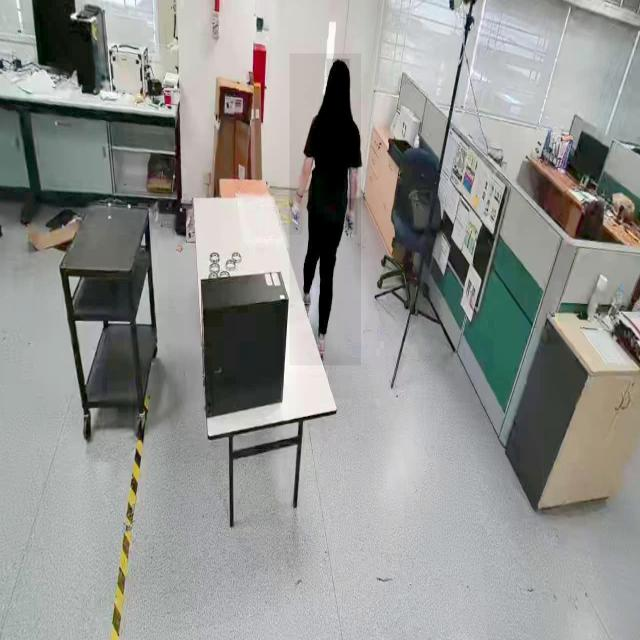hand_glove: (289, 191, 303, 236), (346, 198, 358, 236)
head_nohelmet: (326, 59, 350, 78)
person: (289, 54, 362, 366)
